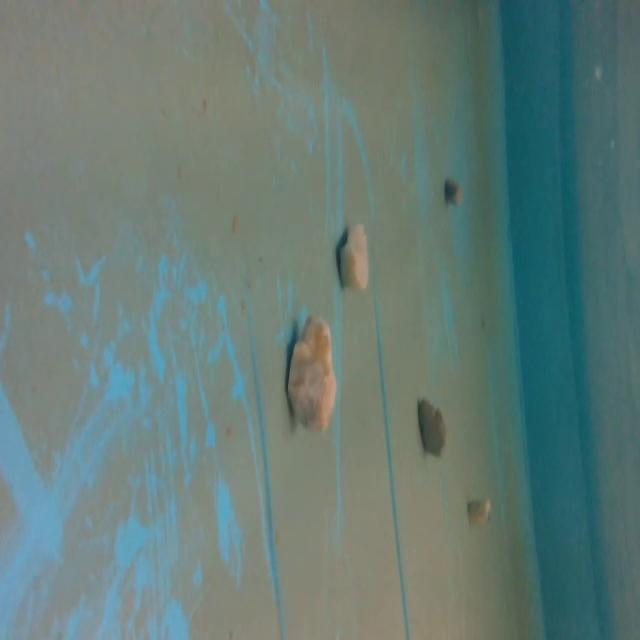rock: (289, 313, 340, 443), (337, 218, 372, 295), (414, 388, 446, 457), (466, 491, 494, 529), (445, 176, 462, 209)
